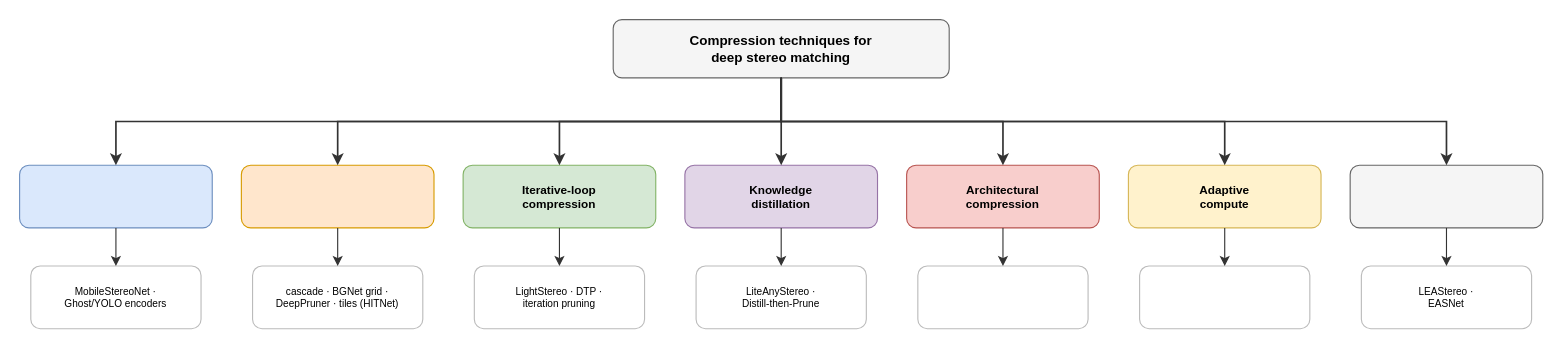
Some shapes in this 1562 by 348 pixel diagram are drawn without their labels. The shapes that lost their labels are listed below. From the top down, each one's centre as x and y in pixels, then its label:
At [115,196]: "Backbone substitution".
At [337,196]: "Cost-volume compression".
At [1446,196]: "Neural architecture search".
At [1002,297]: "CoEx GCE · CGI-Stereo".
At [1224,297]: "AnyNet anytime · MADNet online".
